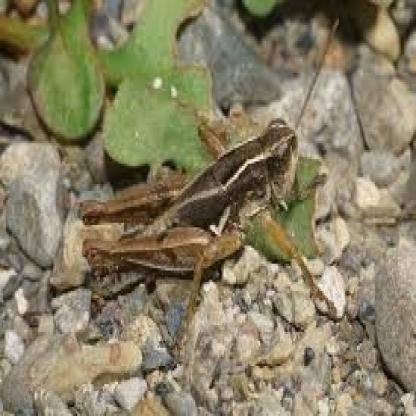grasshopper: (79, 87, 312, 324)
